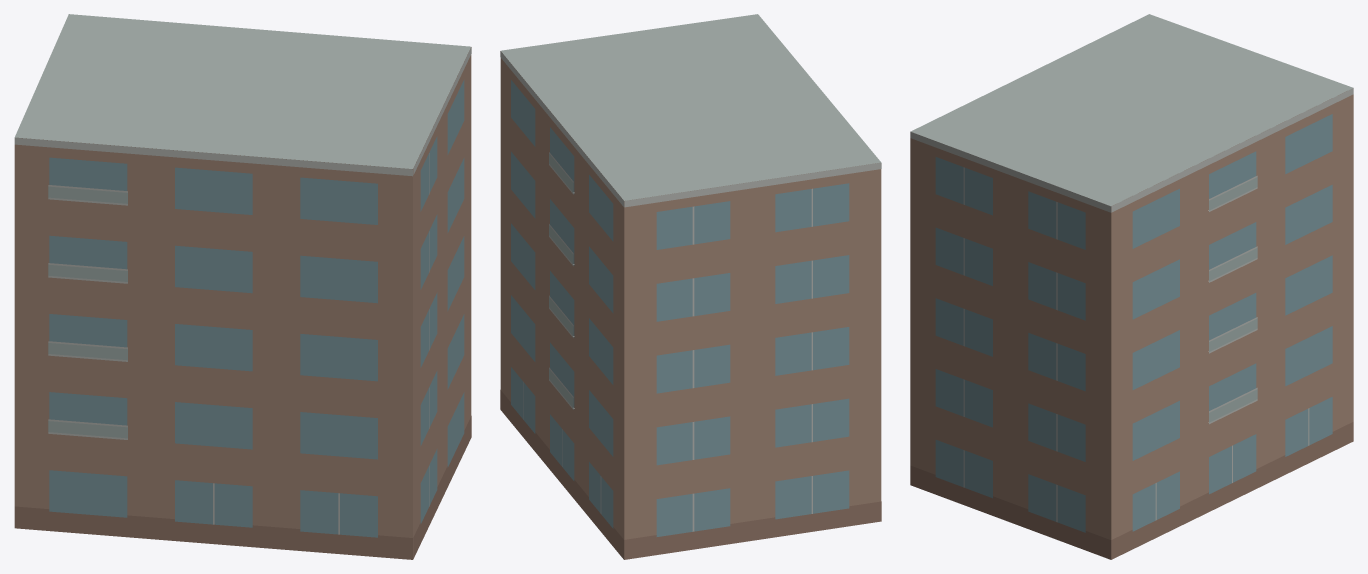
File: survey-upis-32974203.glb
3 views of the same model, side by side, from view 1: azimuth 30°, elevation 25°; view 2: azimuth 150°, elevation 25°; view 3: azimuth 270°, elevation 25° (orthographic). The views are drawn at different scales.
Visible parts, largest first — view 1: survey-upis-32974203.tmp; view 2: survey-upis-32974203.tmp; view 3: survey-upis-32974203.tmp.
Part boxes in pixels (x1=…): survey-upis-32974203.tmp: x1=14, y1=14, x2=471, y2=559; survey-upis-32974203.tmp: x1=500, y1=14, x2=881, y2=559; survey-upis-32974203.tmp: x1=910, y1=14, x2=1353, y2=559.
Bounding box in the file's own units: 15.65 × 13.4 × 15.23.
